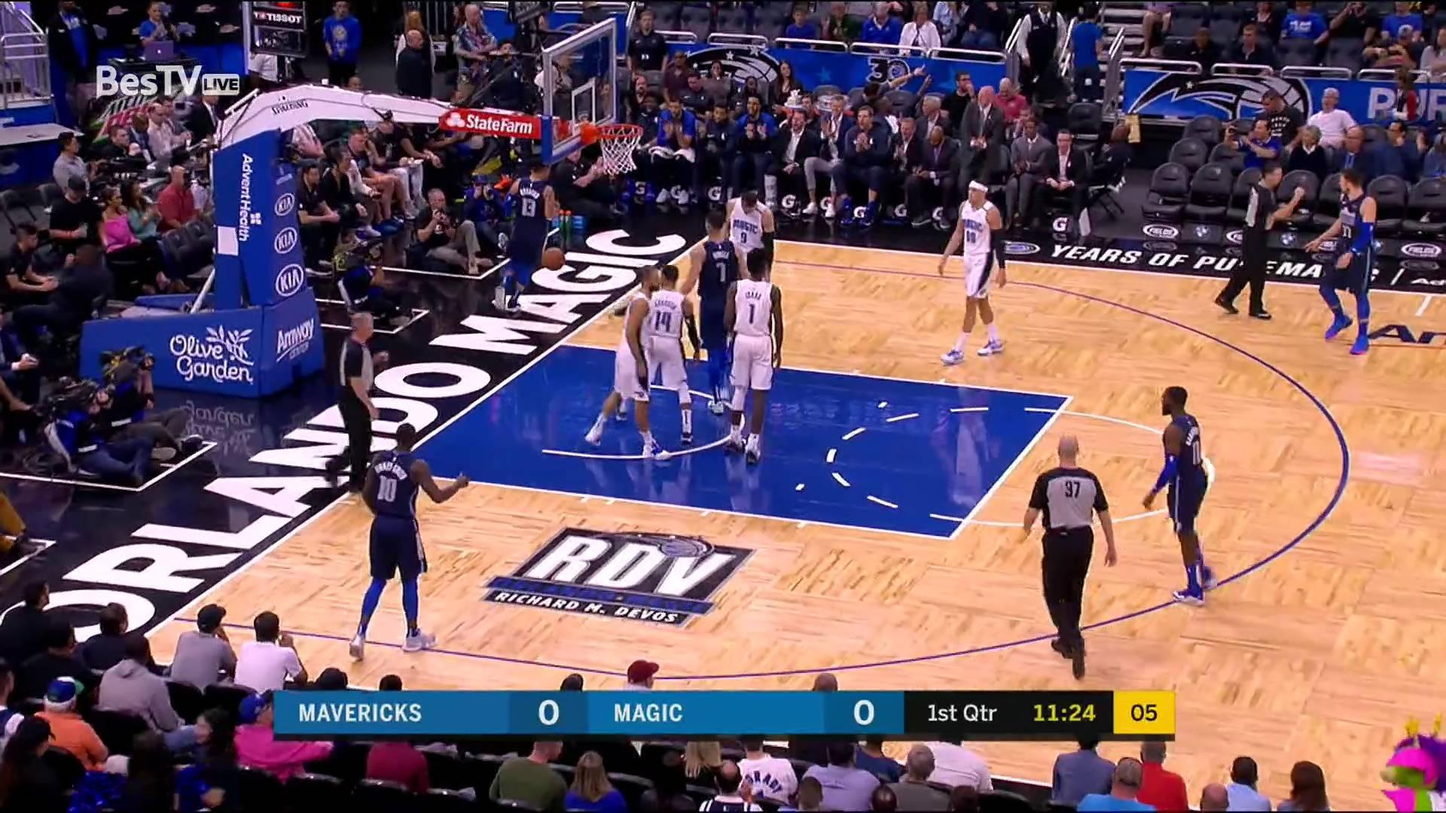basketball: (538, 242, 567, 274)
